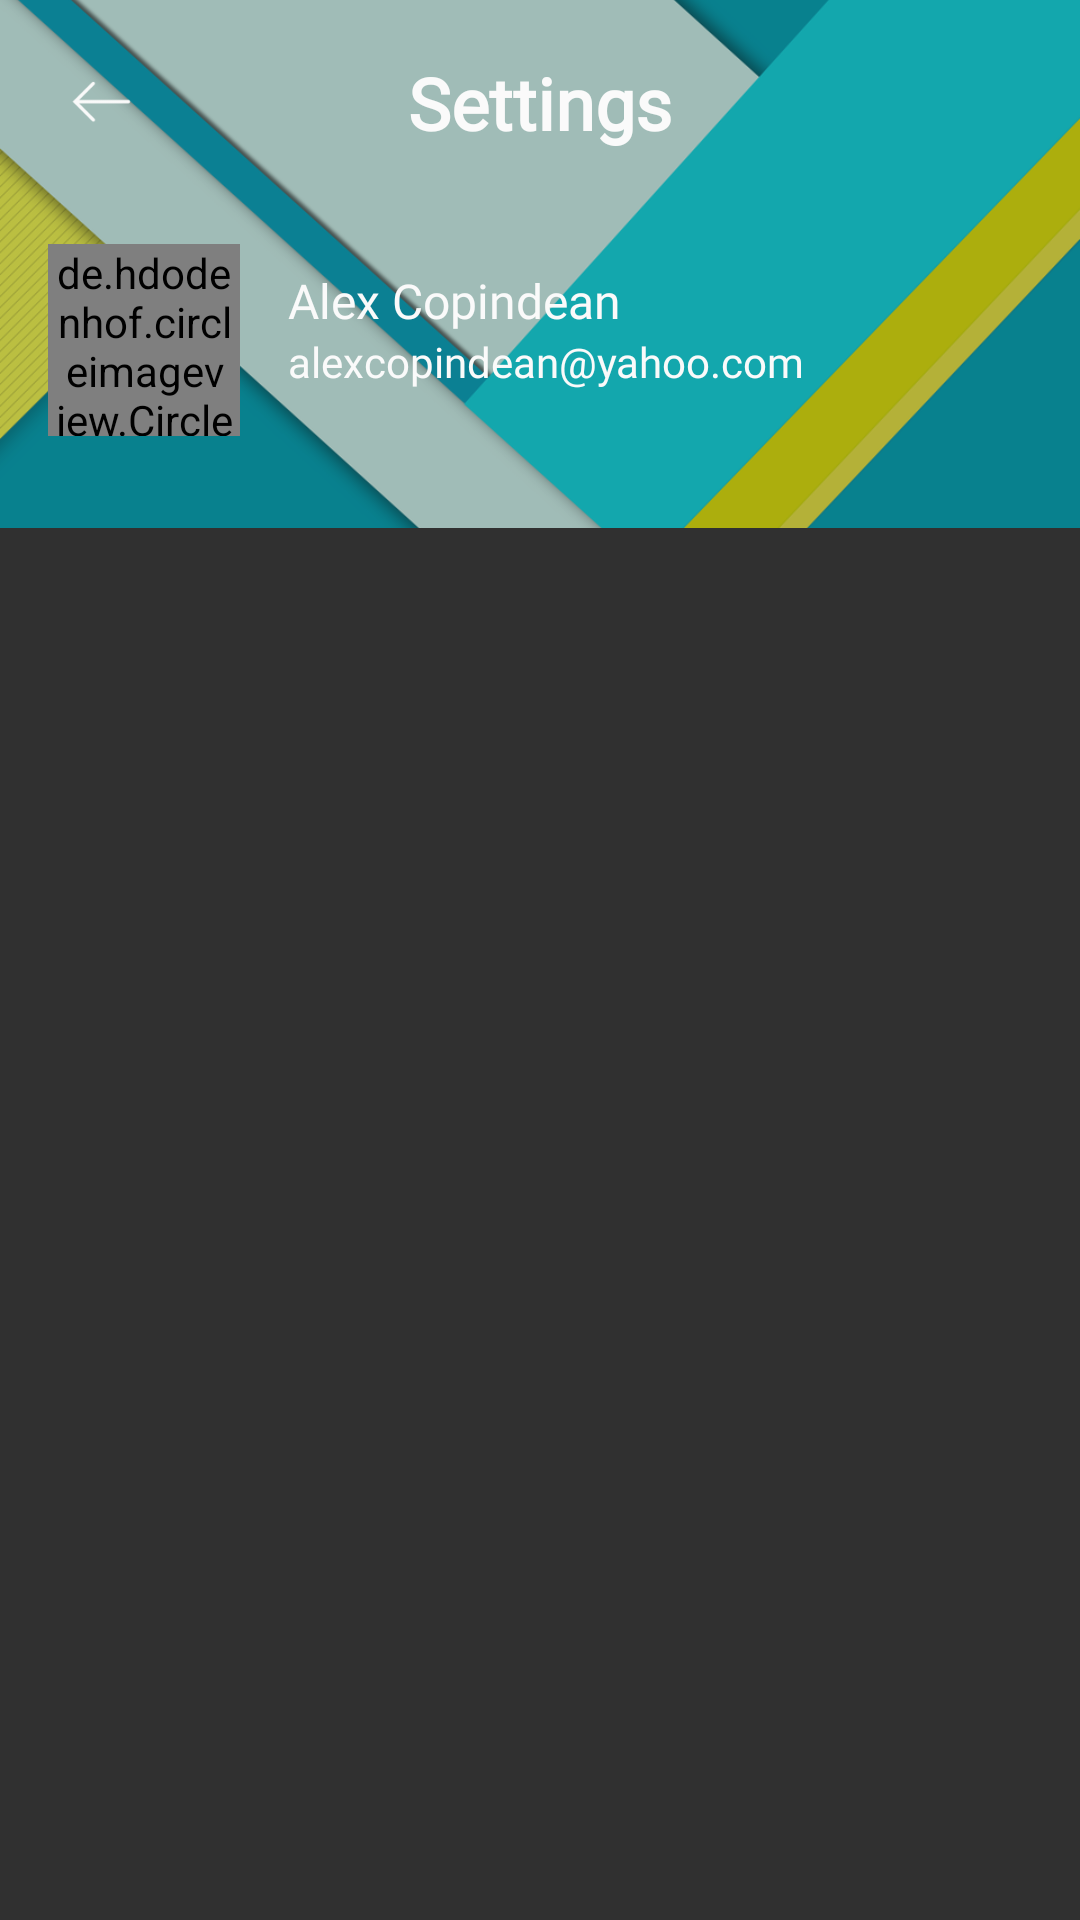

Where icons sit on this 1080 × 1920 app screen, as (x1, y1, x2, y2):
back: (68, 48, 156, 128)
